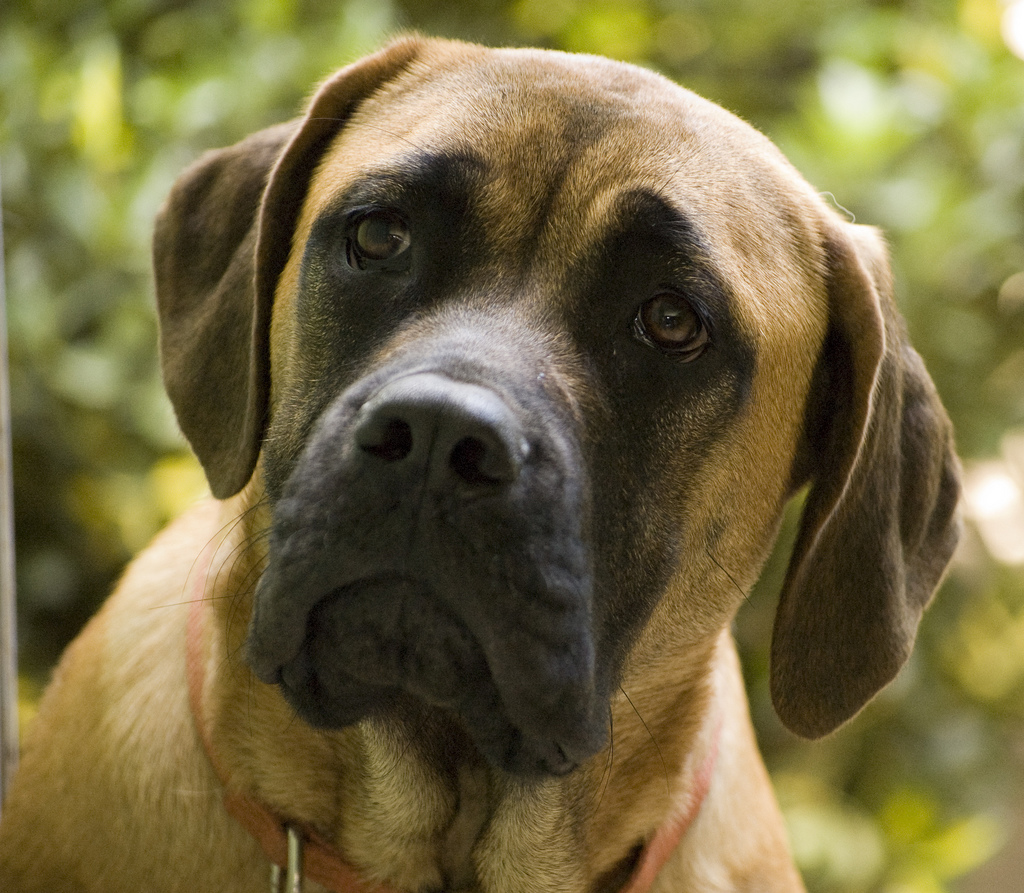mastiff: (0, 27, 967, 892)
